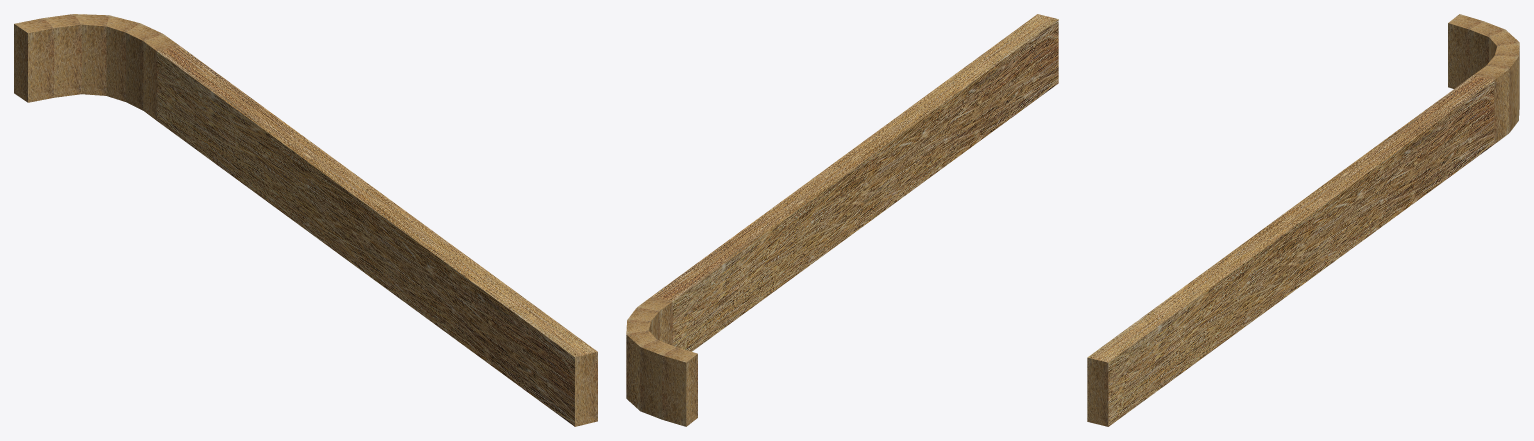
File: lane.obj
3 renders of one model, left to right at view 1: azimuth 30°, elevation 25°; view 2: azimuth 150°, elevation 25°; view 3: azimuth 330°, elevation 25°, orthographic. The views are drawn at different scales.
Parts seen in each view (by area): view 1: Cube.002; view 2: Cube.002; view 3: Cube.002.
Part boxes in pixels (x1,y1,x2,y2): Cube.002: (14,14,597,426); Cube.002: (626,14,1058,426); Cube.002: (1087,14,1519,426).
Bounding box in the file's own units: 1.93 × 1.26 × 15.86.
